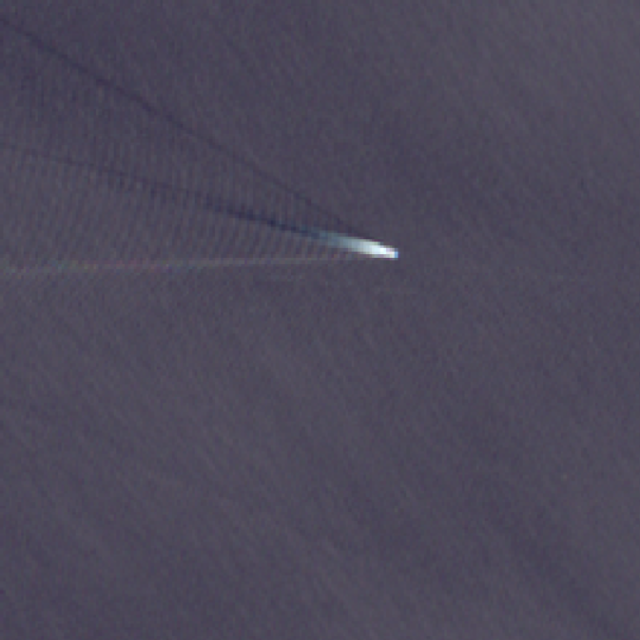wake: (75, 86, 431, 344)
